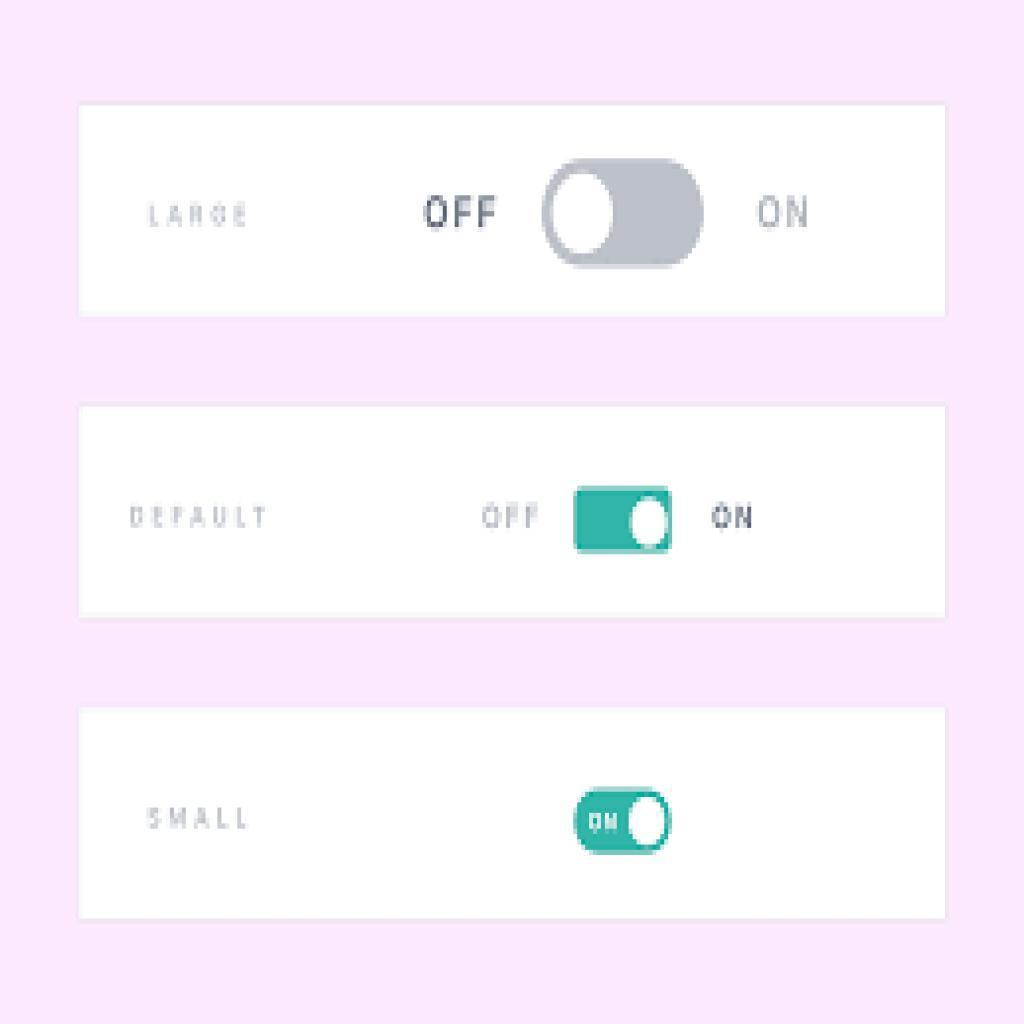switch: (545, 159, 704, 269), (574, 786, 677, 861), (573, 488, 675, 553)
